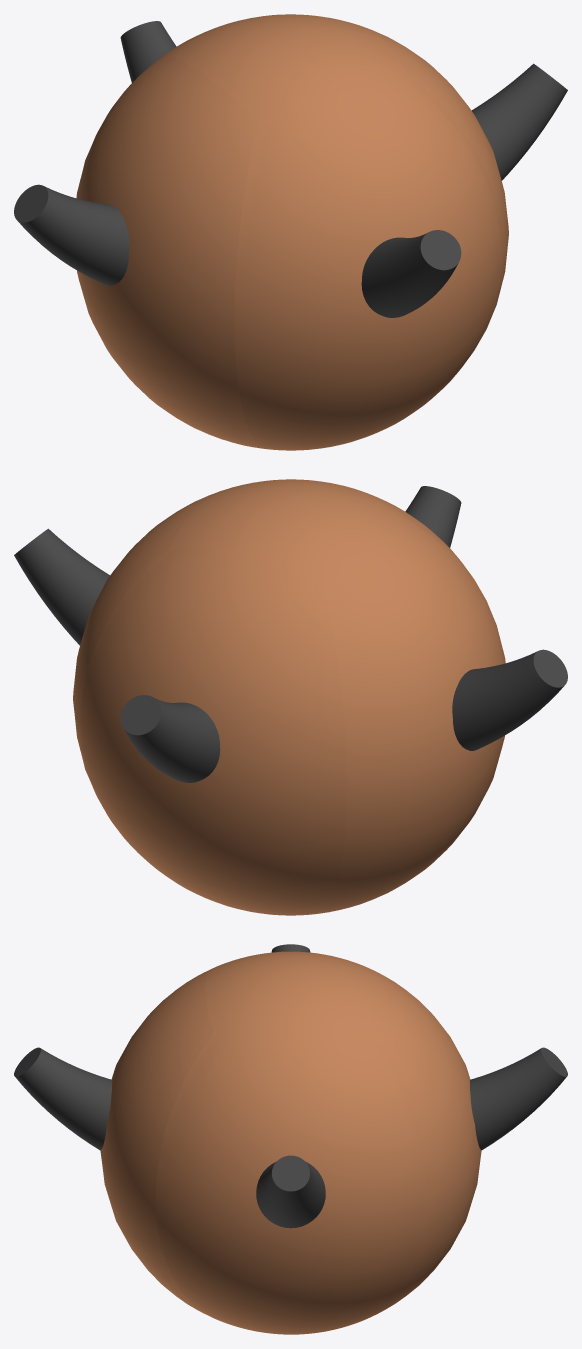
The picture shows the model from 3 angles, top to bottom: view 1: azimuth 30°, elevation 25°; view 2: azimuth 150°, elevation 25°; view 3: azimuth 270°, elevation 25°; orthographic projection. The views are drawn at different scales.
Visible parts, largest first — view 1: Body(Spherical)+Colour(6070059_6070059)+Pattern(Solid)+_7084, Arm002, Arm004, Arm001, Arm003; view 2: Body(Spherical)+Colour(6070059_6070059)+Pattern(Solid)+_7084, Arm002, Arm003, Arm001, Arm004; view 3: Body(Spherical)+Colour(6070059_6070059)+Pattern(Solid)+_7084, Arm003, Arm004, Arm001.
Boxes of the visible parts, x1,y1,x2,y2 form: Body(Spherical)+Colour(6070059_6070059)+Pattern(Solid)+_7084: [76, 14, 508, 450]; Arm002: [14, 184, 129, 285]; Arm004: [361, 230, 461, 317]; Arm001: [471, 63, 567, 180]; Arm003: [120, 21, 176, 82]; Body(Spherical)+Colour(6070059_6070059)+Pattern(Solid)+_7084: [73, 479, 505, 915]; Arm002: [452, 649, 567, 750]; Arm003: [120, 695, 220, 782]; Arm001: [14, 528, 109, 645]; Arm004: [405, 486, 461, 547]; Body(Spherical)+Colour(6070059_6070059)+Pattern(Solid)+_7084: [100, 951, 481, 1334]; Arm003: [470, 1047, 567, 1150]; Arm004: [14, 1047, 111, 1150]; Arm001: [256, 1155, 325, 1228].
Bounding box in the file's own units: 1.47 × 1.02 × 1.47.
Materials: 2 (2 with a texture image).
